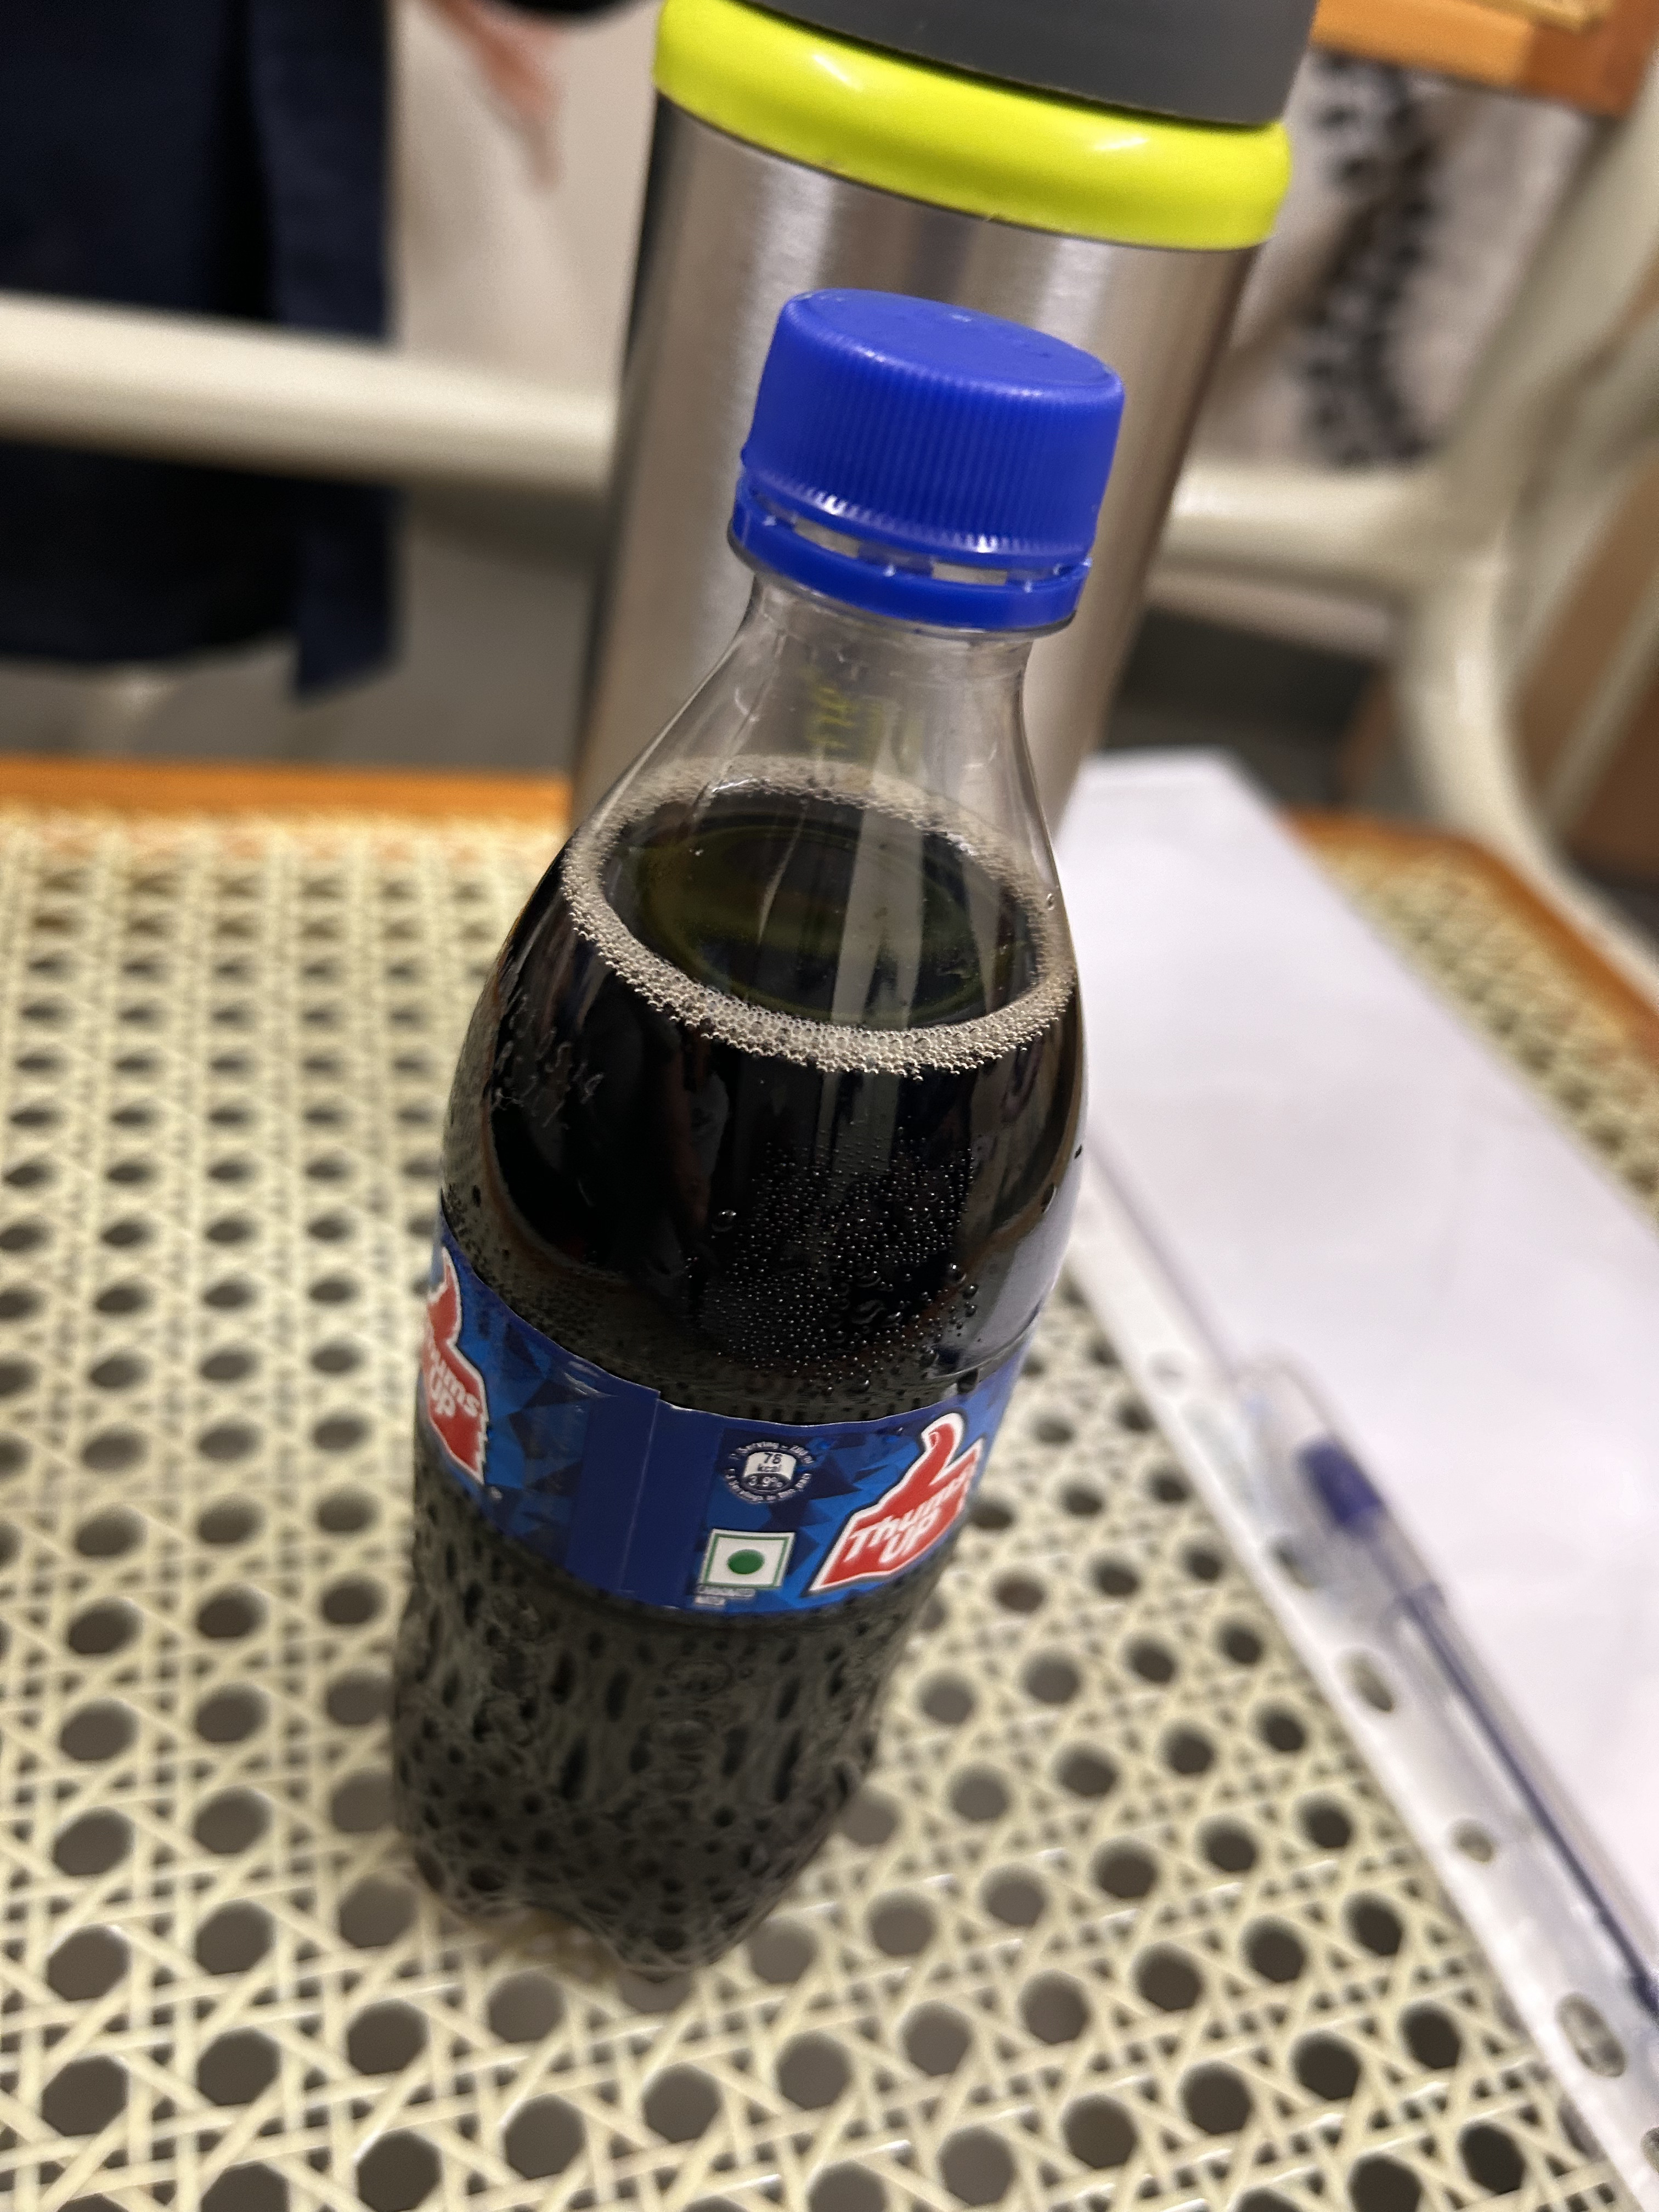unsealed: (706, 261, 1126, 707)
